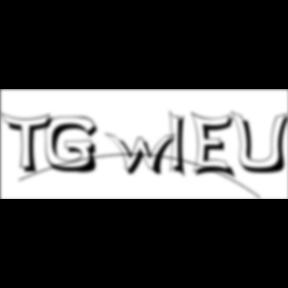E: (190, 110, 240, 182)
G: (46, 116, 104, 176)
T: (0, 112, 58, 176)
l: (170, 108, 192, 182)
w: (105, 132, 183, 178)
